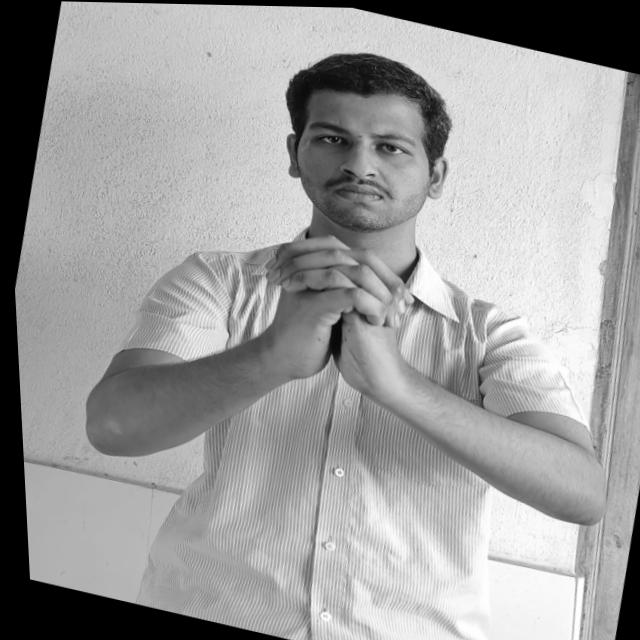Sorry: (243, 218, 427, 386)
